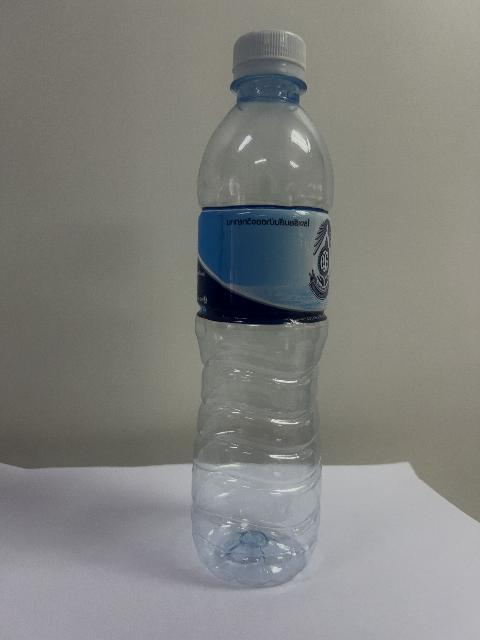bottle: (191, 30, 332, 585)
